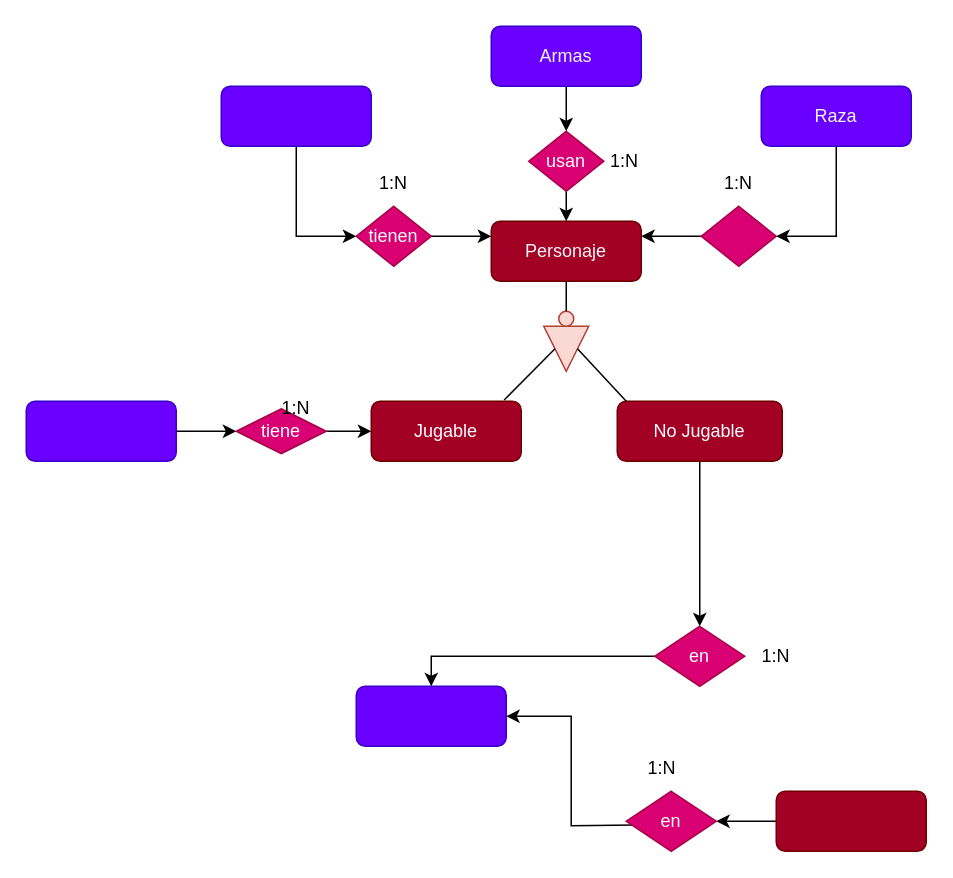
Image size: 953x878. Some labels were removed from this diagram. Each missing label, with the centre of its shape:
"Atributos" belongs at (x=295, y=115).
"Clase" belongs at (x=100, y=430).
"Combate" belongs at (x=430, y=715).
"es de una" belongs at (x=738, y=235).
"Mazmorras" belongs at (x=850, y=820).
